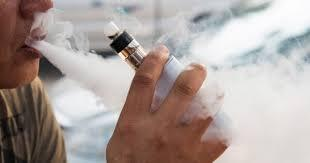smoker: (1, 3, 241, 163)
